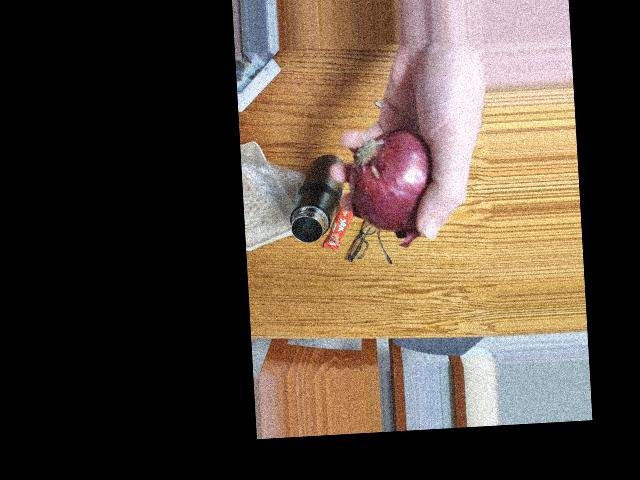onion: (359, 133, 446, 223)
